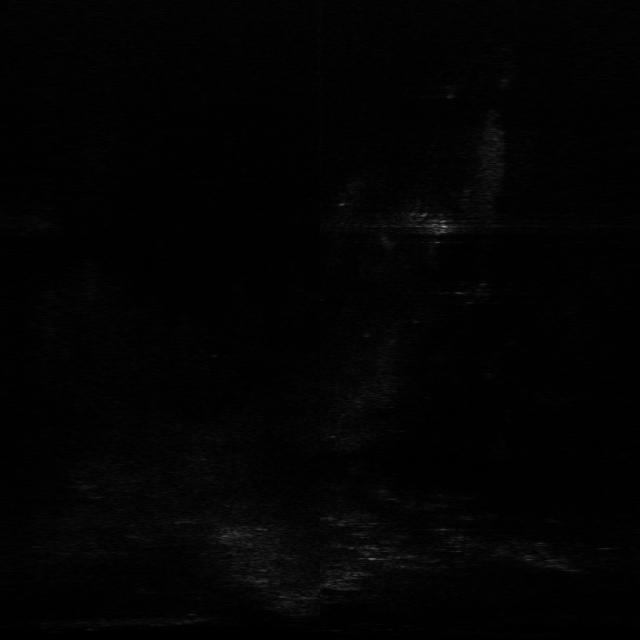rov: (423, 217, 457, 236)
